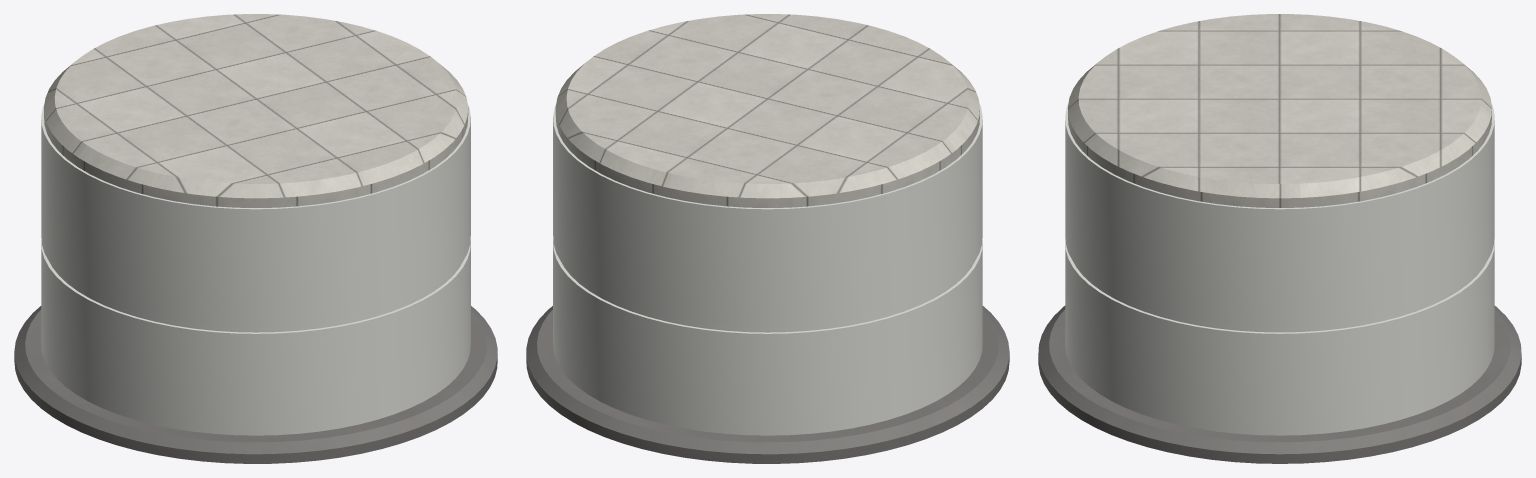
File: ax_util_25_parachute_pack_m.glb
3 renders of one model, left to right at view 1: azimuth 30°, elevation 25°; view 2: azimuth 150°, elevation 25°; view 3: azimuth 270°, elevation 25°, orthographic.
Parts seen in each view (by area): view 1: canister, lid, recess_flange; view 2: canister, lid, recess_flange; view 3: canister, lid, recess_flange.
Boxes of the visible parts, box(x1,y1,x2,y2) form: canister: box(41, 104, 470, 435); lid: box(44, 14, 468, 207); recess_flange: box(14, 306, 497, 463); canister: box(553, 104, 982, 435); lid: box(555, 14, 979, 207); recess_flange: box(526, 306, 1009, 463); canister: box(1065, 104, 1494, 435); lid: box(1068, 14, 1491, 207); recess_flange: box(1038, 305, 1521, 463).
Bounding box in the file's own units: 0.8995 × 0.54 × 0.8997.
4 materials, 3 textured.
